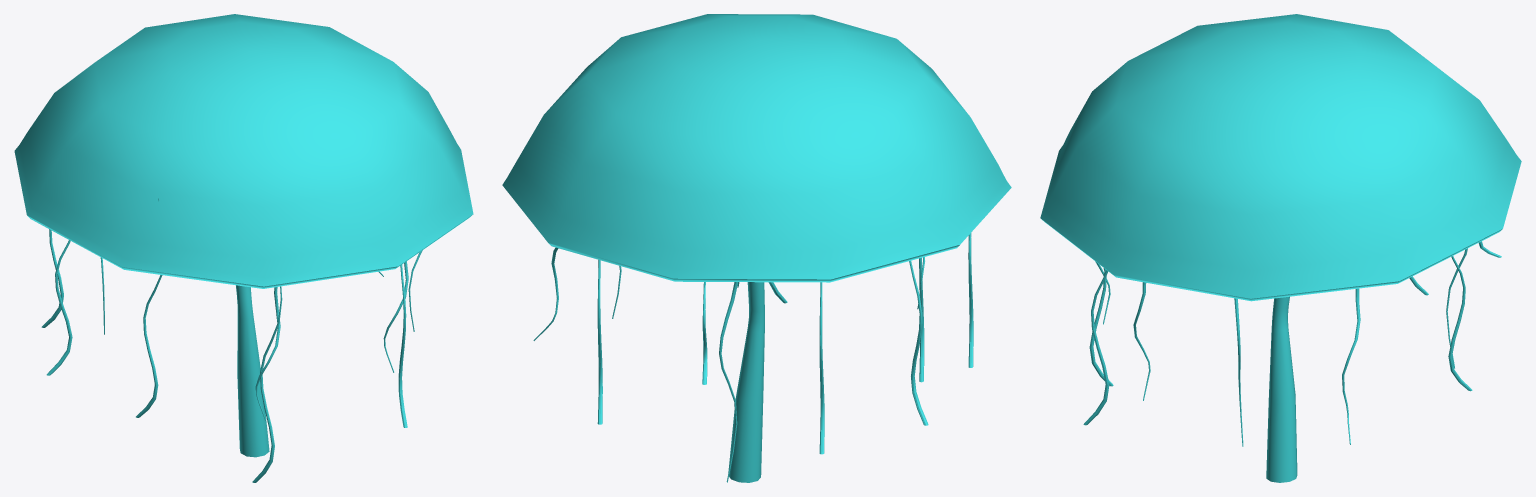
The model's file is champi_test2.fbx.
3 renders of one model, left to right at view 1: azimuth 30°, elevation 25°; view 2: azimuth 150°, elevation 25°; view 3: azimuth 270°, elevation 25°, orthographic. The views are drawn at different scales.
Visible parts, largest first — view 1: champi_meduse; view 2: champi_meduse; view 3: champi_meduse.
Part boxes in pixels (x1=…): champi_meduse: x1=14, y1=14, x2=473, y2=482; champi_meduse: x1=502, y1=14, x2=1011, y2=482; champi_meduse: x1=1040, y1=14, x2=1521, y2=482.
Bounding box in the file's own units: 4.17 × 3.98 × 4.13.
